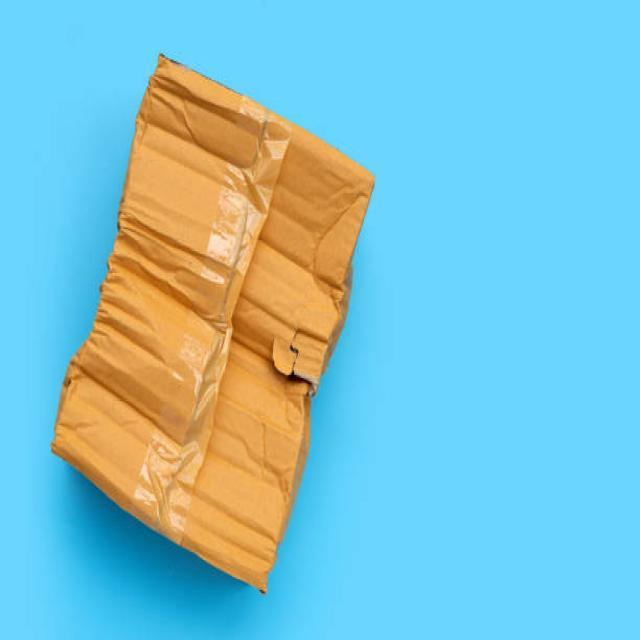box: (54, 50, 373, 589)
crushed: (55, 49, 371, 588)
tear: (264, 321, 327, 395)
